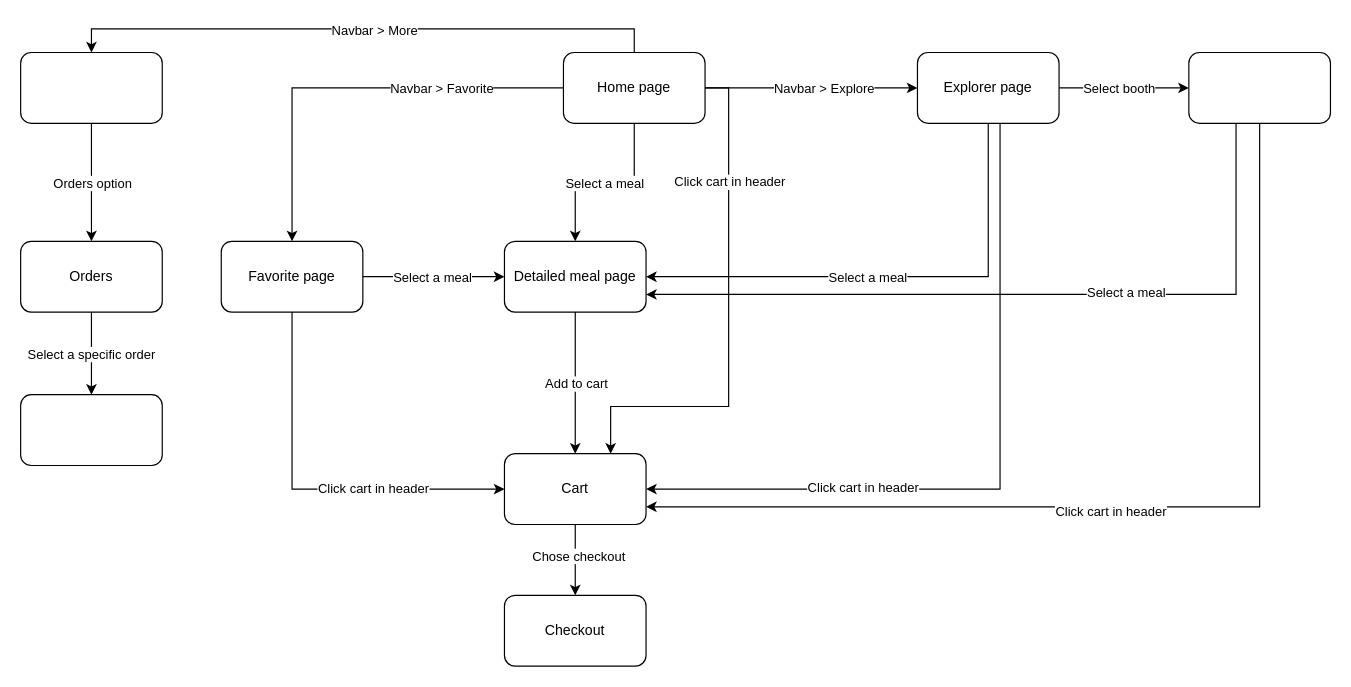
The diagram is 1351 pixels wide and 687 high, and some of its shapes have lost their labels. Each missing label, with the centre of its shape:
Booth page: the point at 1259,87
Detailed order: the point at 90,430
Menu: the point at 90,87
